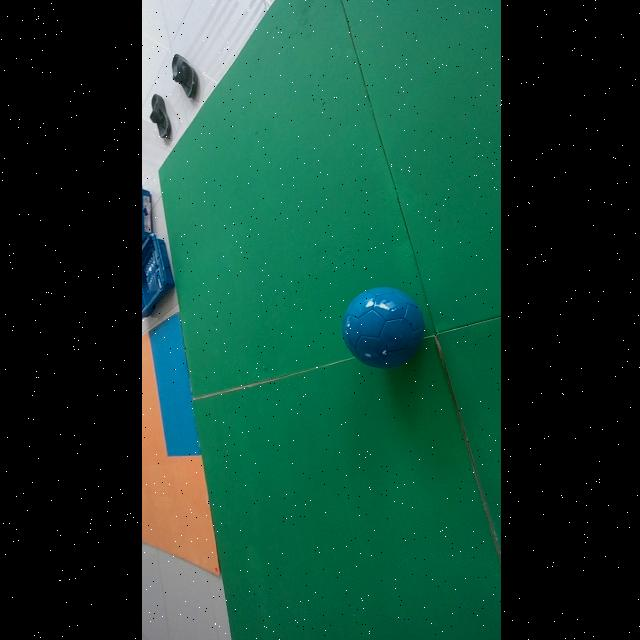B: (340, 287, 423, 369)
